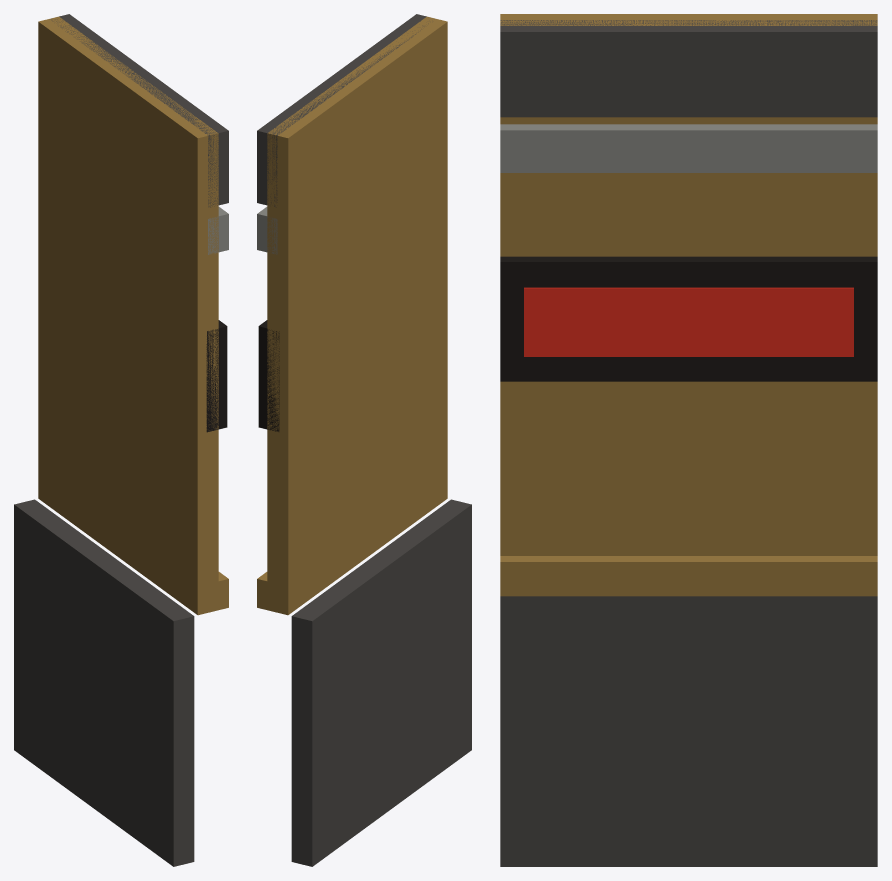
The model's file is tail.glb.
3 renders of one model, left to right at view 1: azimuth 30°, elevation 25°; view 2: azimuth 150°, elevation 25°; view 3: azimuth 270°, elevation 25°, orthographic. The views are drawn at different scales.
Parts seen in each view (by area): view 1: tail; view 2: tail; view 3: tail.
Part boxes in pixels (bbox=[...]): tail: bbox=[14, 14, 228, 866]; tail: bbox=[257, 14, 471, 866]; tail: bbox=[500, 14, 877, 866].
Bounding box in the file's own units: 0.08 × 1 × 0.4.
